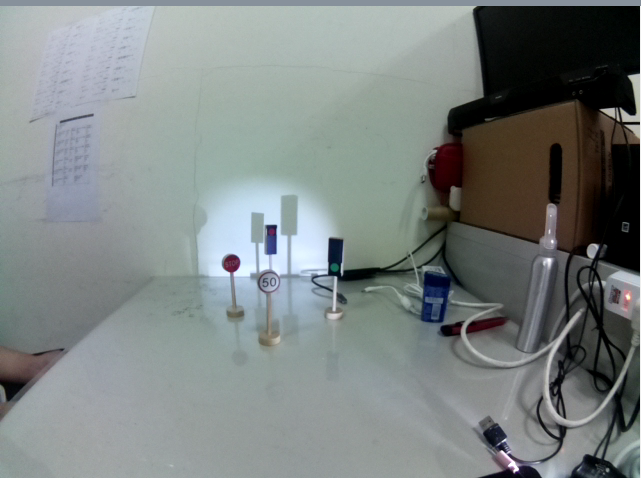Green: (326, 233, 345, 280)
Red: (263, 221, 279, 258)
Speed50: (256, 269, 281, 294)
Stop: (219, 250, 243, 277)
